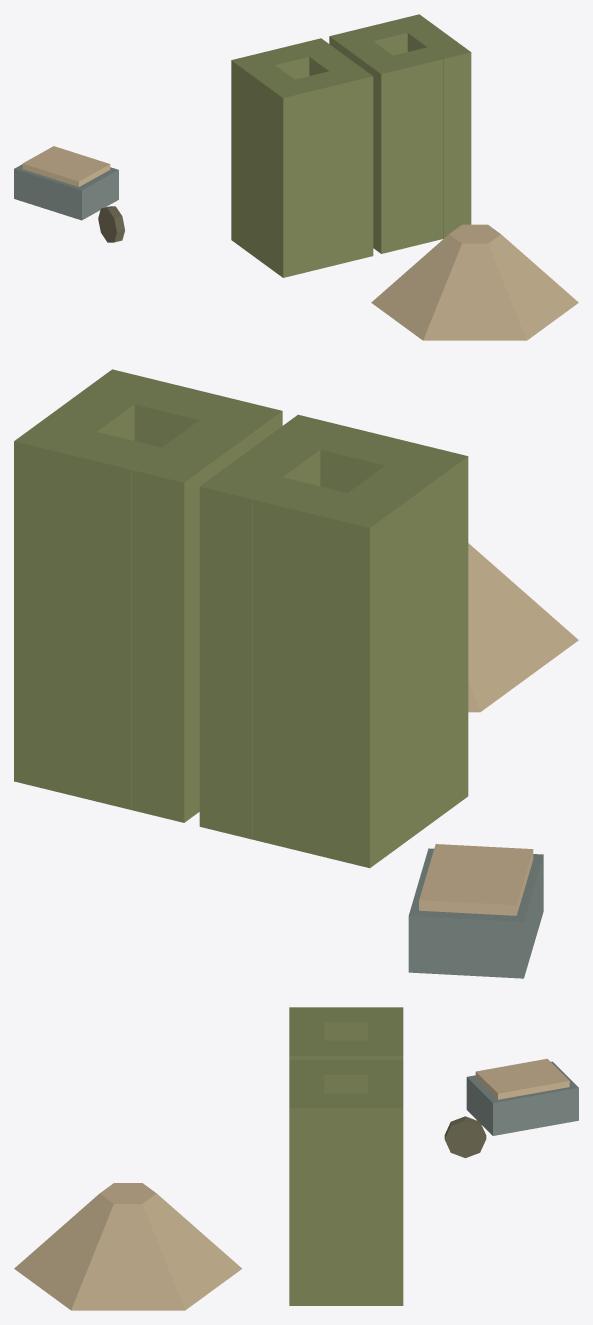
Rendered from SM_ObraHescoAbierto_v4_10m_LOD1.fbx.
3 views of the same model, one above another, from view 1: azimuth 30°, elevation 25°; view 2: azimuth 150°, elevation 25°; view 3: azimuth 270°, elevation 25° (orthographic). The views are drawn at different scales.
Parts seen in each view (by area): view 1: SM_obra_curso_v29_LOD1; view 2: SM_obra_curso_v29_LOD1; view 3: SM_obra_curso_v29_LOD1.
Part boxes in pixels (bbox=[...]): SM_obra_curso_v29_LOD1: bbox=[14, 14, 578, 340]; SM_obra_curso_v29_LOD1: bbox=[14, 369, 578, 978]; SM_obra_curso_v29_LOD1: bbox=[14, 1007, 578, 1310].
Bounding box in the file's own units: 4.23 × 2.1 × 5.44.
